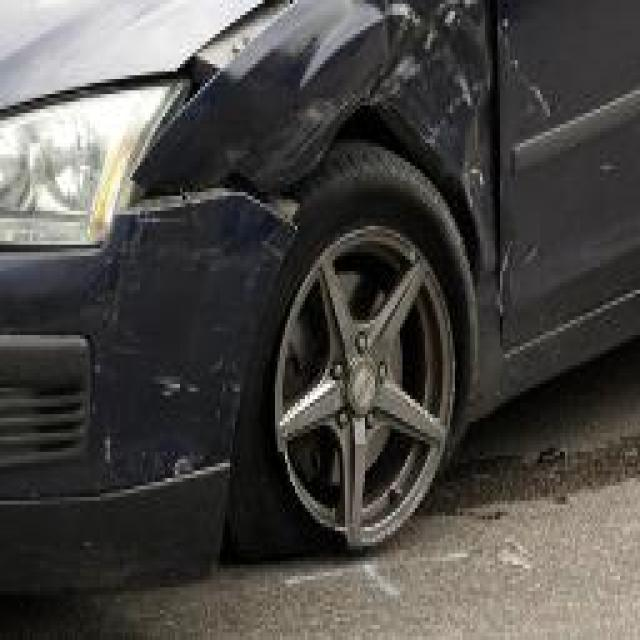Bumper: (83, 187, 296, 493)
Door: (498, 2, 584, 343)
Fender: (133, 0, 503, 274)
